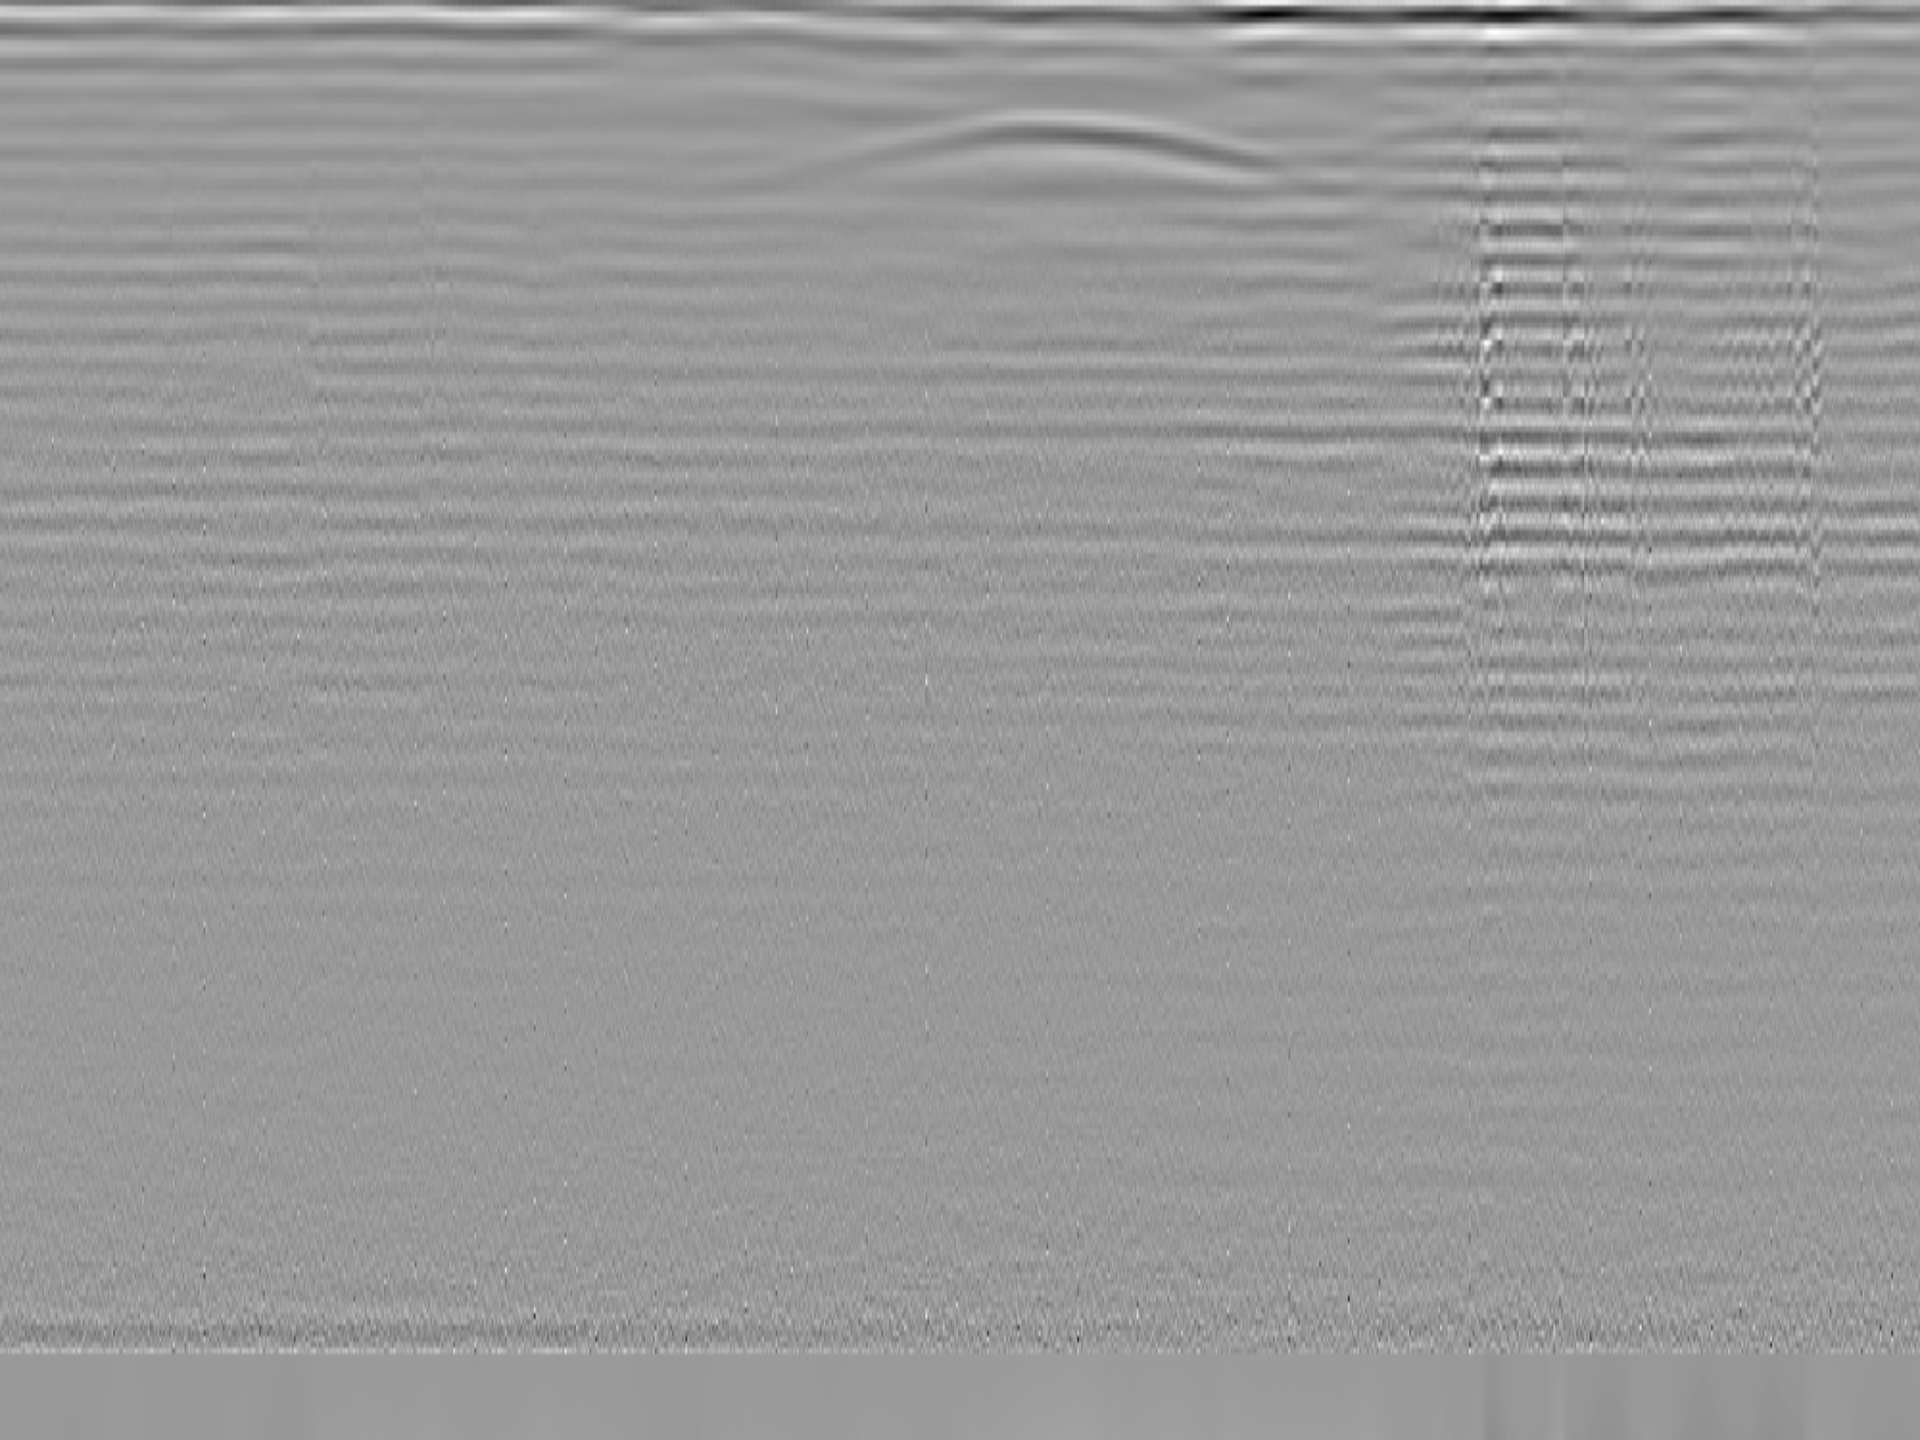Tunnel: (733, 109, 1306, 191)
